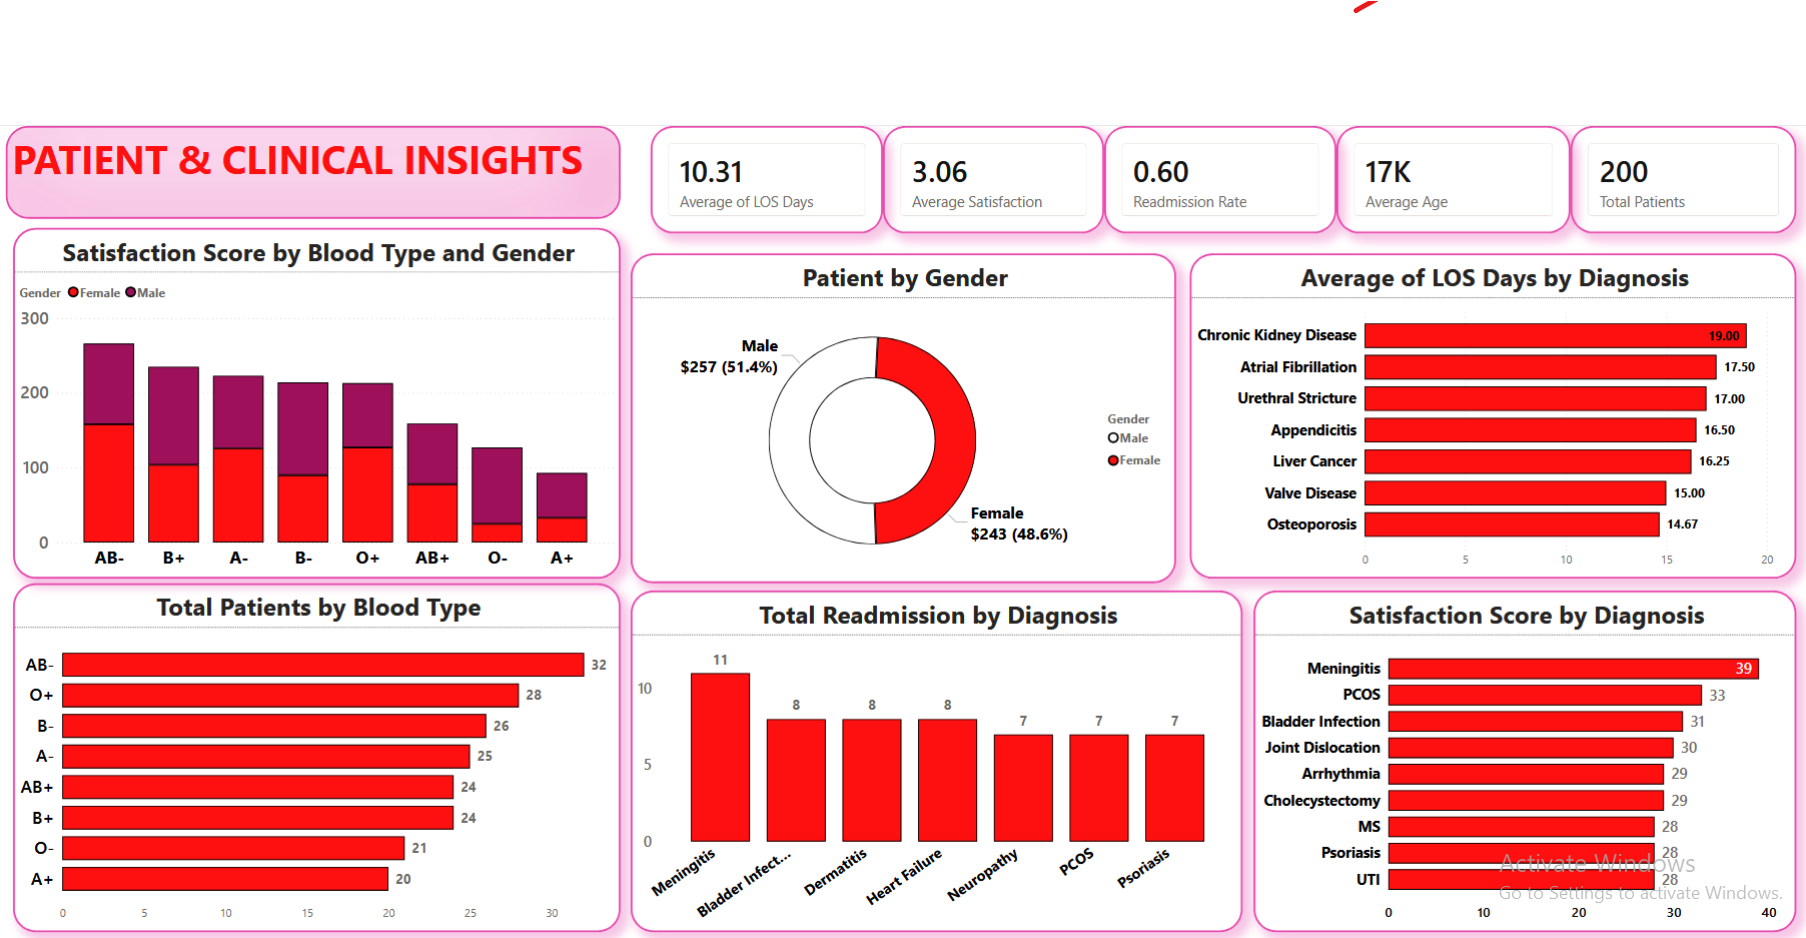

This screenshot's page, from the dashboard's own definition file:
{"tool":"powerbi","page":{"name":"Page 3","canvas":[2000,895],"ordinal":2},"visuals":[{"type":"cardVisual","fields":{"Data":["_measure.Total Patients"]},"box":[1730,0,248.3,118.3],"z":0},{"type":"cardVisual","fields":{"Data":["_measure.Average Age"]},"box":[1473.3,0,256.7,118.3],"z":1000},{"type":"cardVisual","fields":{"Data":["_measure.Average Satisfaction"]},"box":[975,0,243.3,118.3],"z":2000},{"type":"cardVisual","fields":{"Data":["_measure.Readmission Rate"]},"box":[1218.3,0,255,118.3],"z":3000},{"type":"cardVisual","fields":{"Data":["Avg(Admissions.LOS_Days)"]},"box":[720,0,255,118.3],"z":4000},{"type":"donutChart","fields":{"Y":["CountNonNull(Admissions.Patient_ID)"],"Category":["Patients.Gender_updated"]},"box":[698.3,140,598.3,361.7],"z":5000},{"type":"clusteredBarChart","fields":{"Category":["Patients.Blood_Type"],"Y":["_measure.Total Patients"]},"box":[20,501.7,666.7,383.3],"z":6000},{"type":"barChart","fields":{"Category":["Admissions.Diagnosis"],"Y":["_measure.Satisfaction Score"]},"box":[1381.7,510,596.7,375],"z":7000},{"type":"clusteredColumnChart","fields":{"Category":["Admissions.Diagnosis"],"Y":["_measure.Total Readmission"]},"box":[698.3,510,671.7,375],"z":8000},{"type":"barChart","fields":{"Category":["Admissions.Diagnosis"],"Y":["Avg(Admissions.LOS_Days)"]},"box":[1311.7,140,666.7,356.7],"z":9000},{"type":"columnChart","fields":{"Y":["_measure.Satisfaction Score"],"Category":["Patients.Blood_Type"],"Series":["Patients.Gender_updated"]},"box":[20,111.7,666.7,385],"z":10000},{"type":"textbox","box":[11.7,0,675,101.7],"z":11000}]}

Visuals, with their boxes on the page's 2000x895 design canvas (x1, y1, x2, y2). These are canvas units, not pixel positions in the 1806x938 screenshot, which may show the page scaled, cropped or inside an application window:
cardVisual - _measure.Total Patients: [left=1730, top=0, right=1978, bottom=118]
cardVisual - _measure.Average Age: [left=1473, top=0, right=1730, bottom=118]
cardVisual - _measure.Average Satisfaction: [left=975, top=0, right=1218, bottom=118]
cardVisual - _measure.Readmission Rate: [left=1218, top=0, right=1473, bottom=118]
cardVisual - Avg(Admissions.LOS_Days): [left=720, top=0, right=975, bottom=118]
donutChart - CountNonNull(Admissions.Patient_ID) x Patients.Gender_updated: [left=698, top=140, right=1297, bottom=502]
clusteredBarChart - Patients.Blood_Type x _measure.Total Patients: [left=20, top=502, right=687, bottom=885]
barChart - Admissions.Diagnosis x _measure.Satisfaction Score: [left=1382, top=510, right=1978, bottom=885]
clusteredColumnChart - Admissions.Diagnosis x _measure.Total Readmission: [left=698, top=510, right=1370, bottom=885]
barChart - Admissions.Diagnosis x Avg(Admissions.LOS_Days): [left=1312, top=140, right=1978, bottom=497]
columnChart - _measure.Satisfaction Score x Patients.Blood_Type: [left=20, top=112, right=687, bottom=497]
textbox: [left=12, top=0, right=687, bottom=102]
